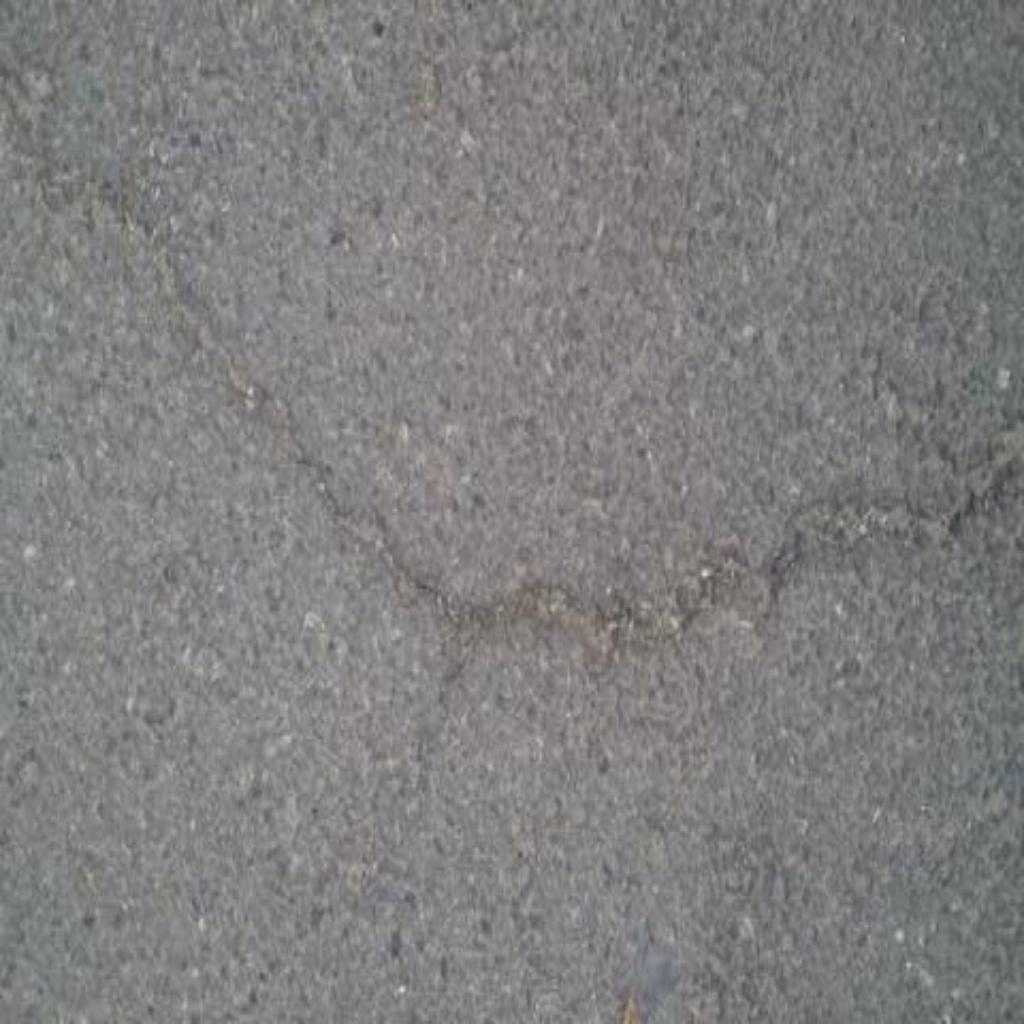Crack: (1, 61, 1024, 661)
